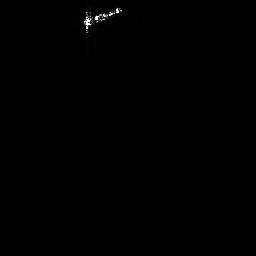ship: (83, 7, 124, 27)
